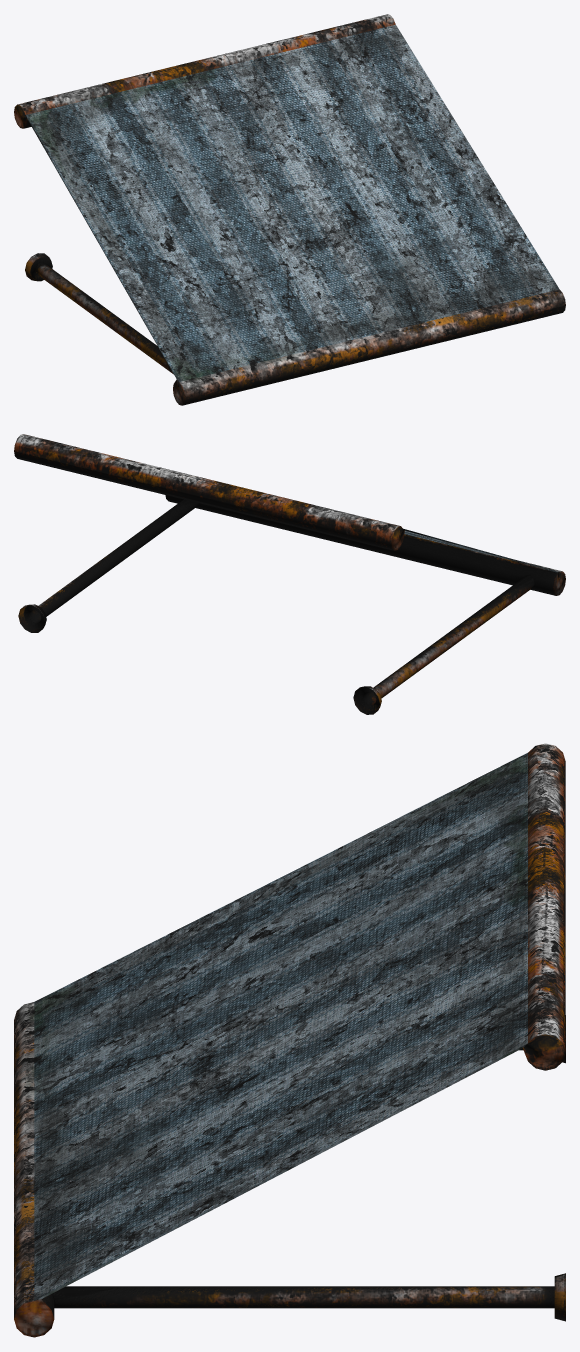
Rendered from AwningWindow.fbx.
The picture shows the model from 3 angles, top to bottom: view 1: azimuth 30°, elevation 25°; view 2: azimuth 150°, elevation 25°; view 3: azimuth 270°, elevation 25°; orthographic projection. The views are drawn at different scales.
Parts seen in each view (by area): view 1: awningWindow_LOD0; view 2: awningWindow_LOD0; view 3: awningWindow_LOD0.
Part boxes in pixels (x1,y1,x2,y2): awningWindow_LOD0: (14, 14, 565, 405); awningWindow_LOD0: (14, 434, 565, 714); awningWindow_LOD0: (14, 743, 565, 1337).
Size of what is drawn, in the model's own units: 3.81 by 1.78 by 2.97.
